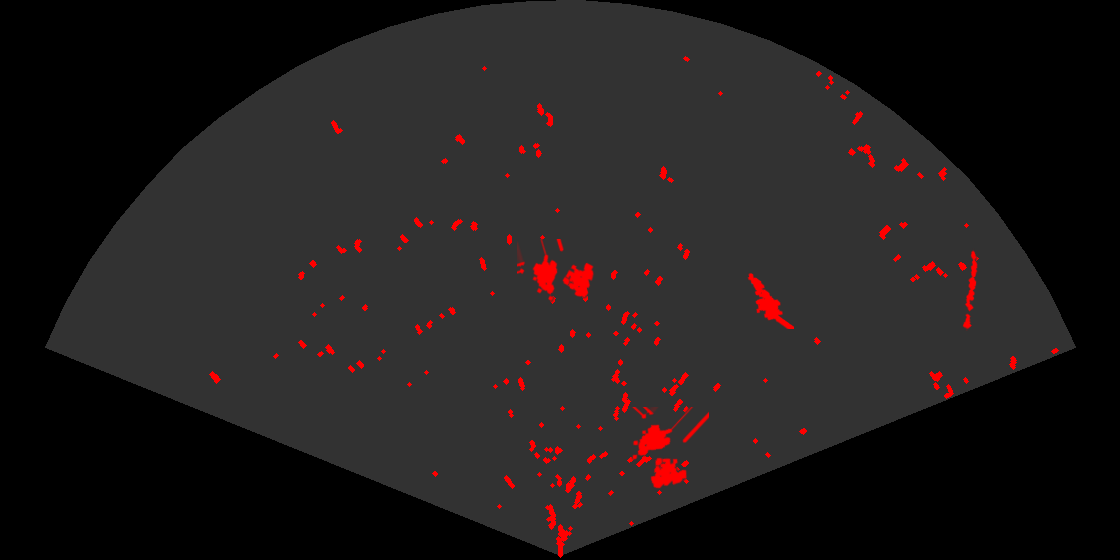cage: (630, 407, 709, 490), (517, 239, 596, 303)
chain: (961, 248, 979, 331)
frogman: (746, 271, 794, 329)
